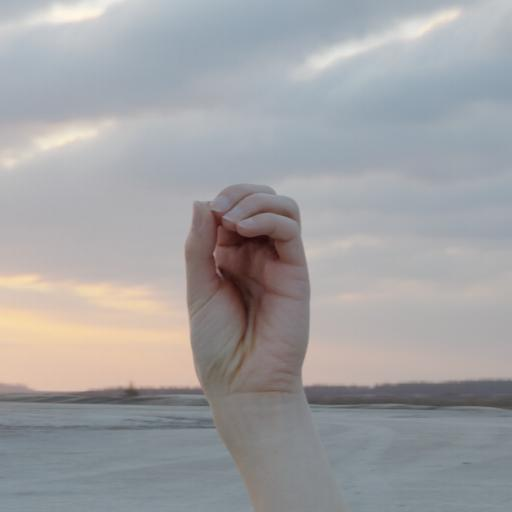O: (167, 178, 335, 428)
